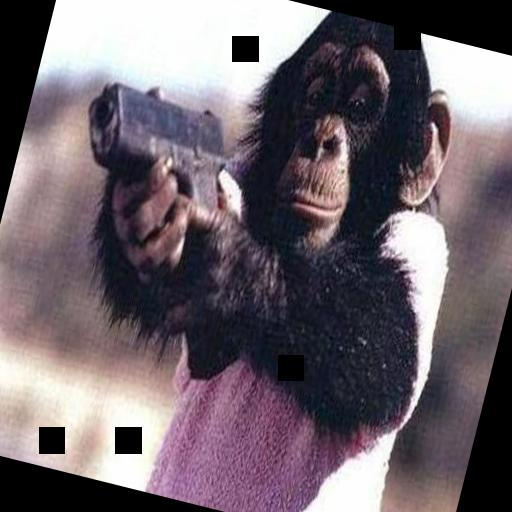Handgun: (68, 74, 244, 214)
